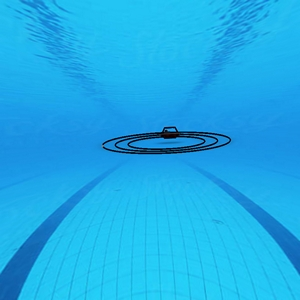circle: (103, 132, 233, 150)
submarine: (161, 127, 182, 141)
